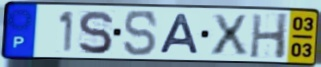1: (57, 10, 74, 55)
A: (158, 12, 201, 56)
H: (248, 12, 290, 61)
S: (122, 9, 159, 58), (76, 9, 114, 56)
X: (209, 12, 250, 57)
